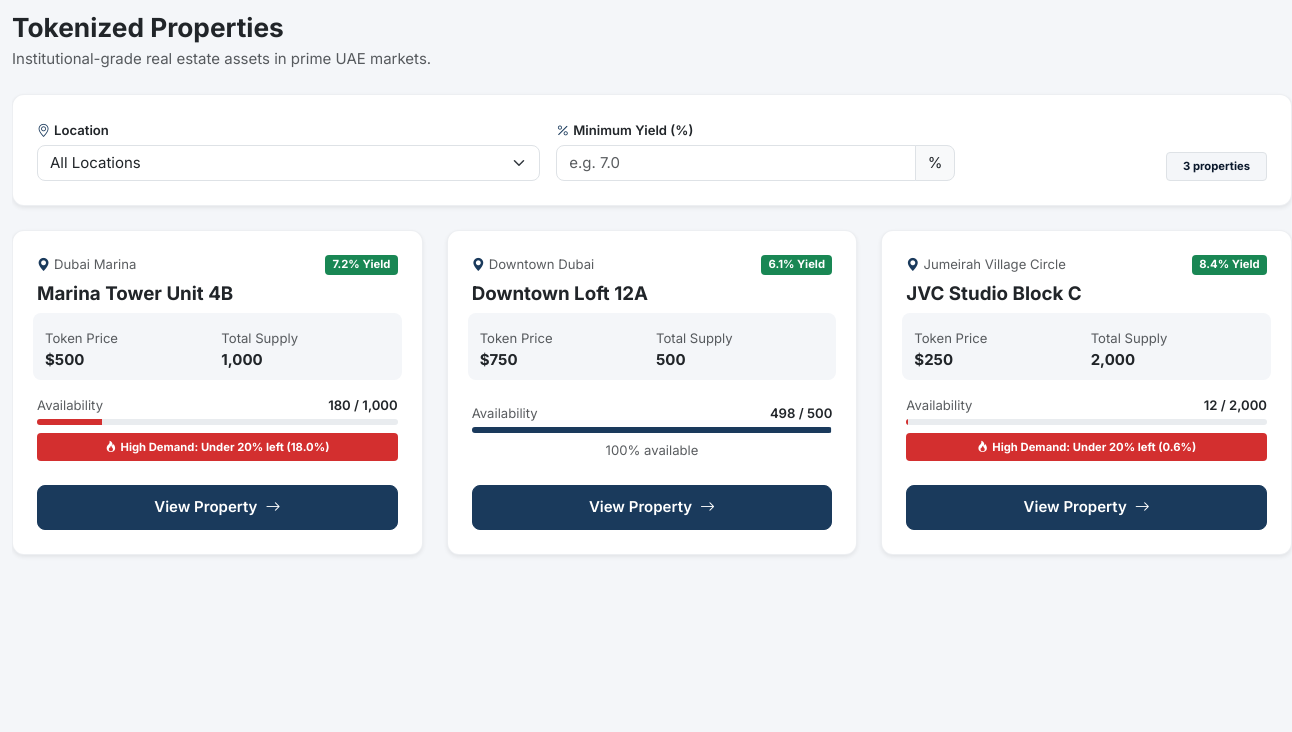
Test: PropertyListingPage Component › filters properties by location select
The image size is (1292, 732).
Select "Dubai Marina" in the dropdown named "filter by property location" at point(289, 163), box [37, 145, 540, 181]
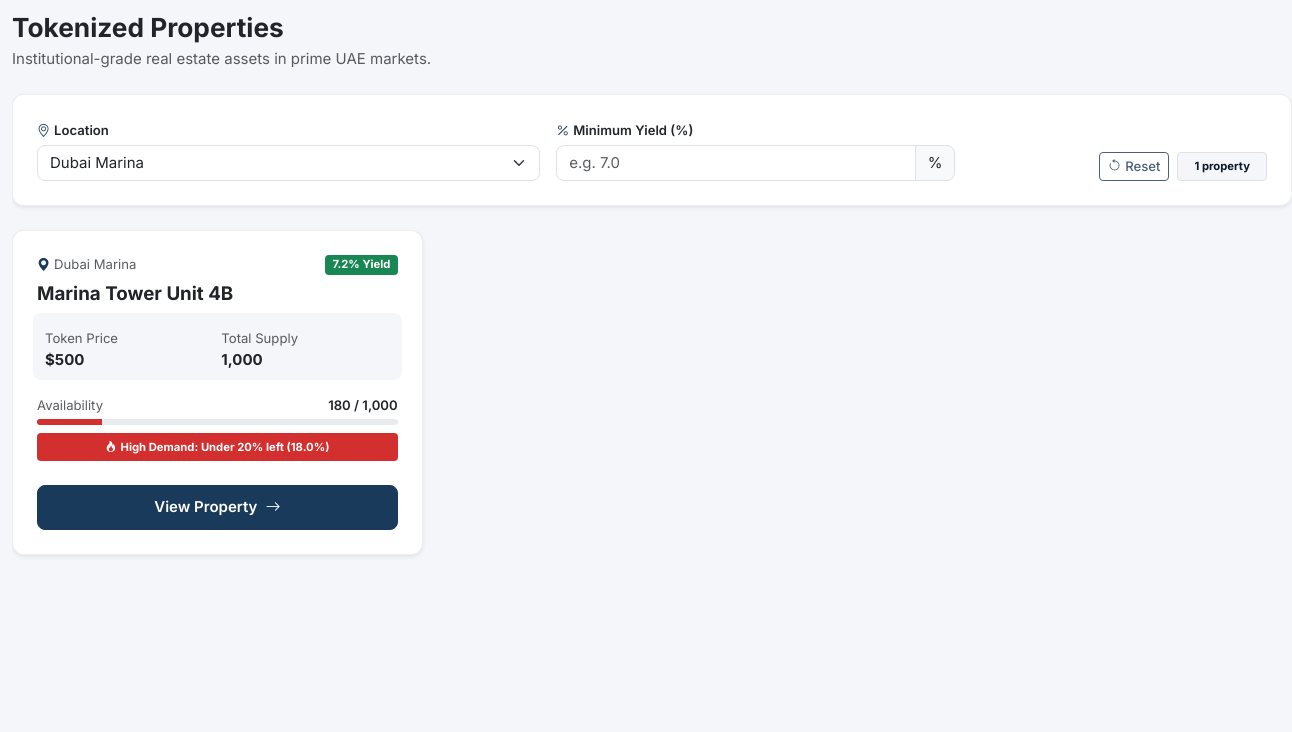
Check: the heading "Marina Tower Unit 4B" is shown, box [37, 282, 233, 305]
Check: the heading "Downtown Loft 12A" is gone
Check: the heading "JVC Studio Block C" is gone
